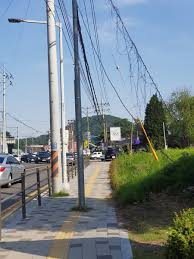guide_blocks: (54, 214, 78, 257), (87, 168, 99, 194)
